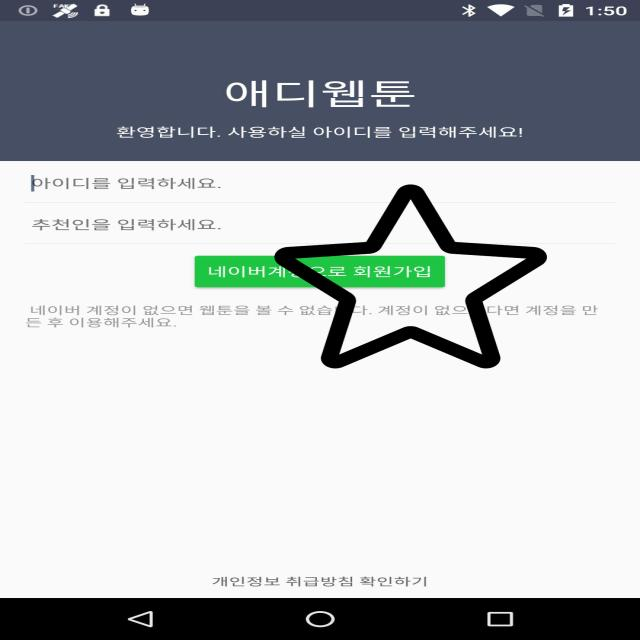forced continuity: (274, 180, 547, 372)
